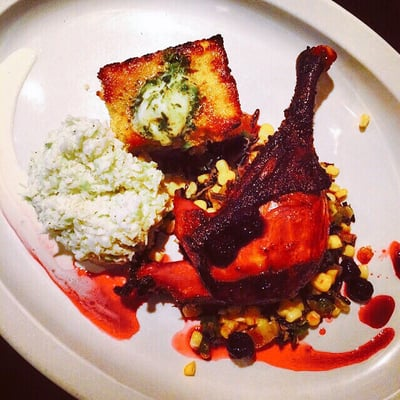curry: (20, 116, 169, 273)
